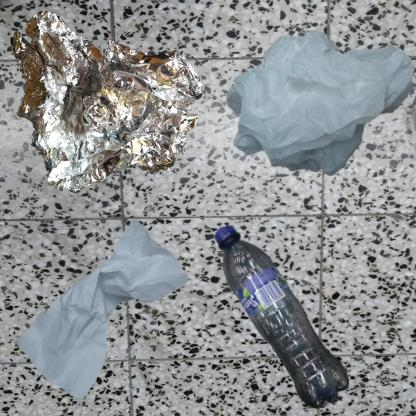aluminio: (10, 10, 203, 192)
bolsa: (213, 10, 416, 206)
botella: (213, 213, 358, 416)
papel: (10, 213, 192, 416)
